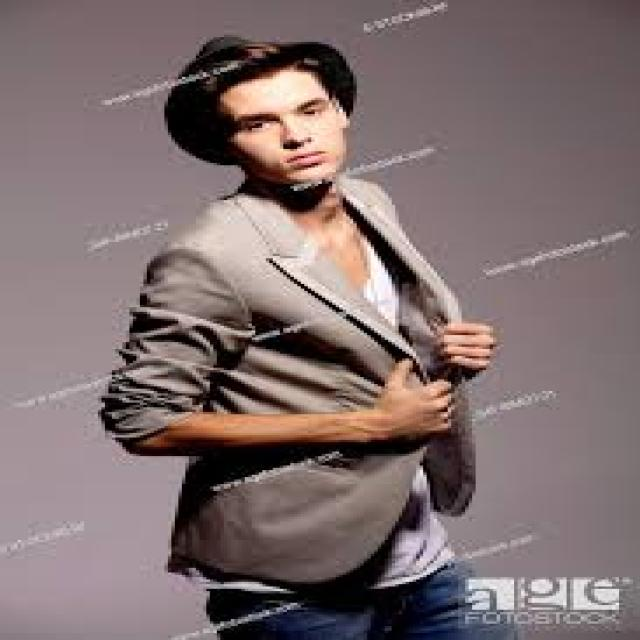hat: (164, 37, 364, 186)
